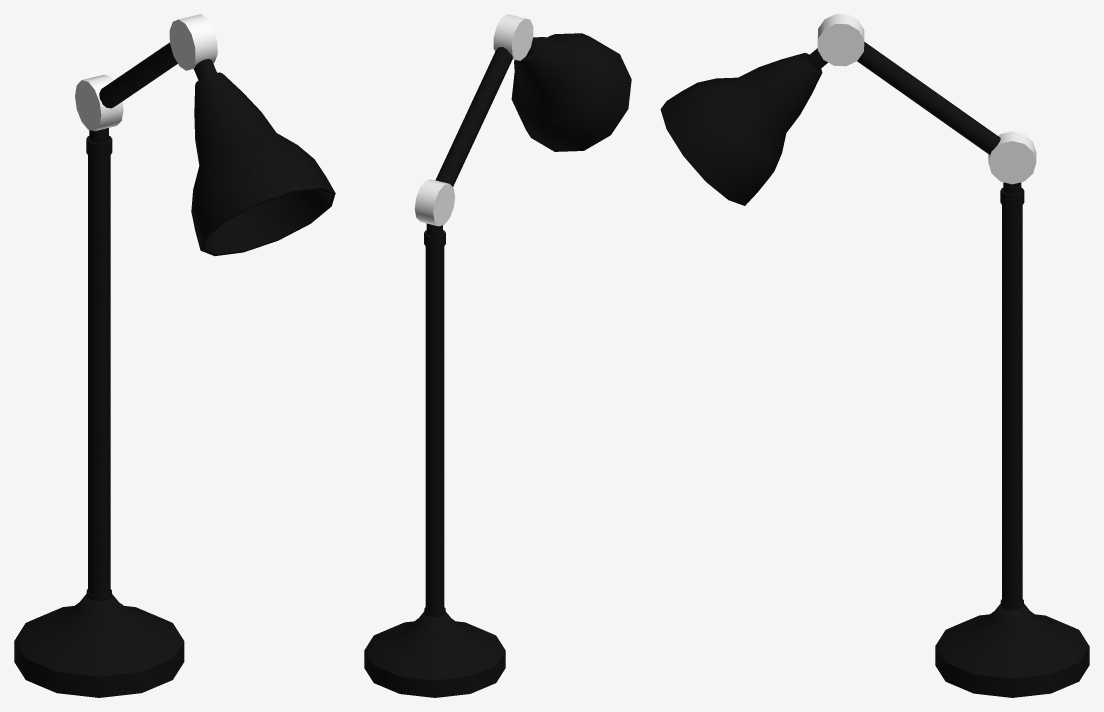
File: black_desk_lamp.obj
The picture shows the model from 3 angles, left to right: view 1: azimuth 30°, elevation 25°; view 2: azimuth 150°, elevation 25°; view 3: azimuth 270°, elevation 25°; orthographic projection. The views are drawn at different scales.
Visible parts, largest first — view 1: black_desk_lamp; view 2: black_desk_lamp; view 3: black_desk_lamp.
Boxes of the visible parts, bbox=[...] form: black_desk_lamp: bbox=[14, 14, 335, 697]; black_desk_lamp: bbox=[364, 14, 631, 697]; black_desk_lamp: bbox=[660, 14, 1089, 697].
Size of the model in its own units: 0.1122 by 0.5188 by 0.312.
